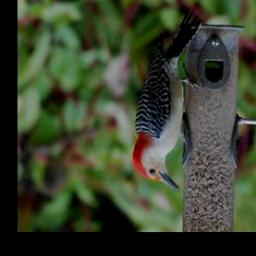Woodpecker: (132, 8, 206, 191)
